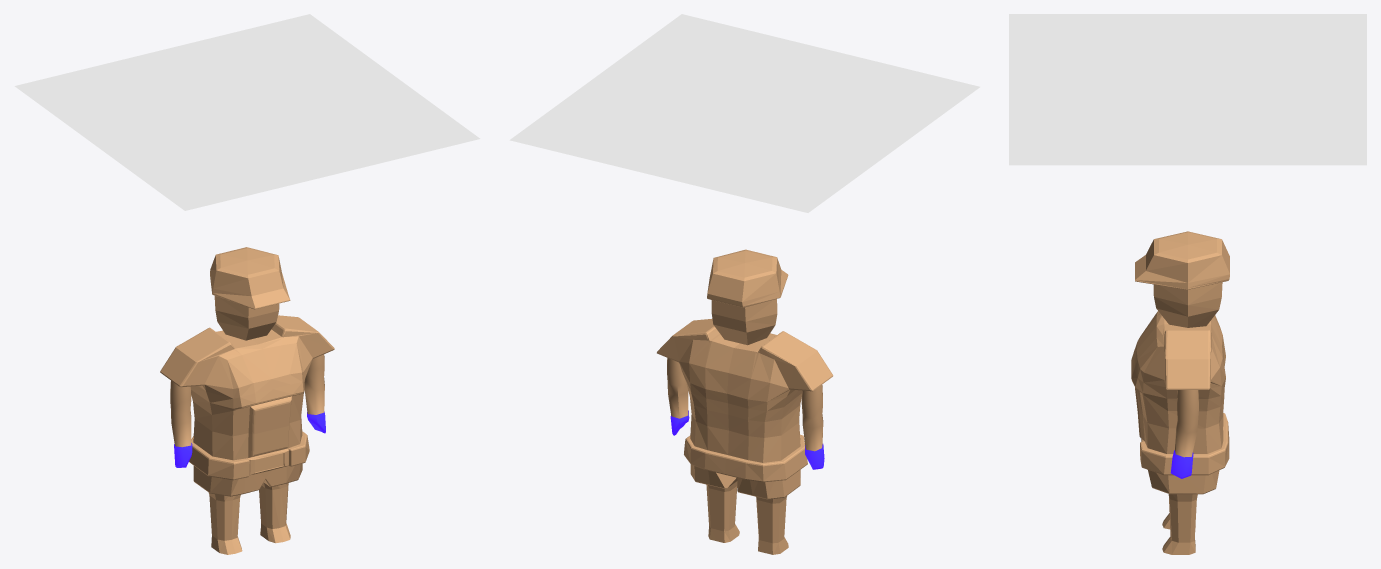
File: FOAM_Soldier_V4.fbx
The picture shows the model from 3 angles, left to right: view 1: azimuth 30°, elevation 25°; view 2: azimuth 150°, elevation 25°; view 3: azimuth 270°, elevation 25°; orthographic projection. The views are drawn at different scales.
Parts seen in each view (by area): view 1: Plane, pCube1, pSphere1, pCylinder1; view 2: Plane, pCube1, pSphere1, pCylinder1; view 3: Plane, pCube1, pSphere1, pCylinder1.
Part boxes in pixels (x1,y1,x2,y2): Plane: (14,14,480,210); pCube1: (160,315,334,554); pSphere1: (210,247,290,340); pCylinder1: (170,354,325,467); Plane: (509,14,979,212); pCube1: (657,319,833,554); pSphere1: (707,249,788,345); pCylinder1: (667,358,824,469); Plane: (1009,14,1366,165); pCube1: (1131,311,1229,554); pSphere1: (1135,231,1229,327); pCylinder1: (1170,390,1198,478).
Size of the model in its own units: 869 by 1198 by 869.
